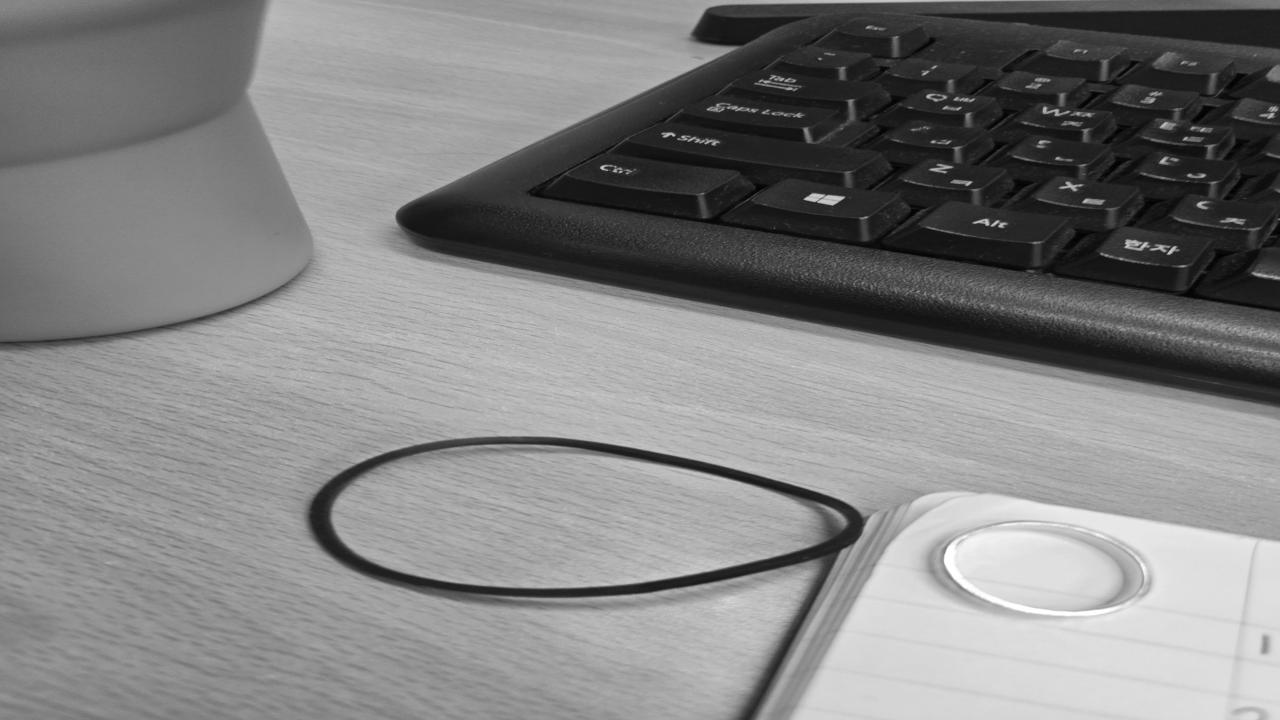ring: (928, 521, 1156, 620)
